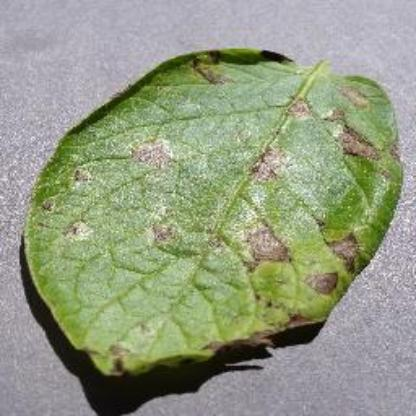Early-Blight: (21, 35, 404, 384)
